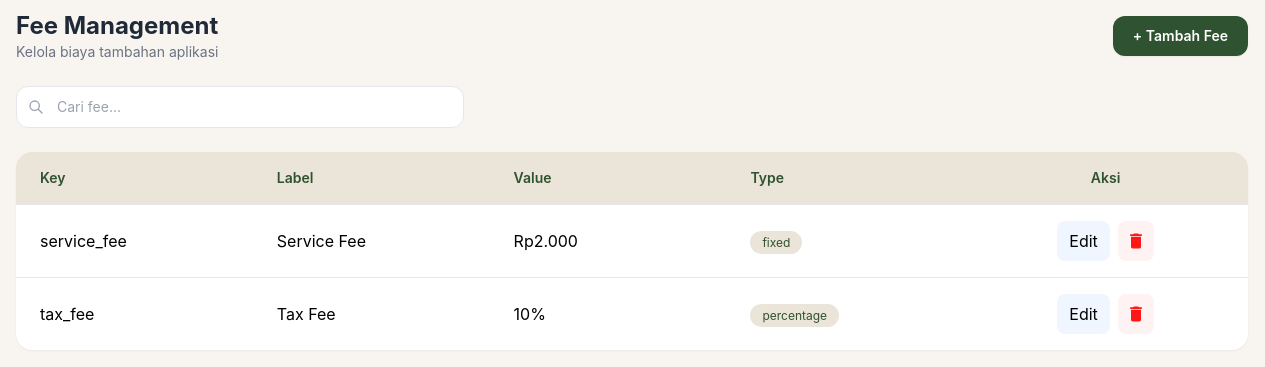
Scenario: FeeManagement Page › search filter bekerja
Check: the text "Service Fee" is shown, box [277,231,366,251]
Type "tax" into the field with placeholder "Cari fee...".
click(240, 107); type("tax")  # box [16,86,464,128]
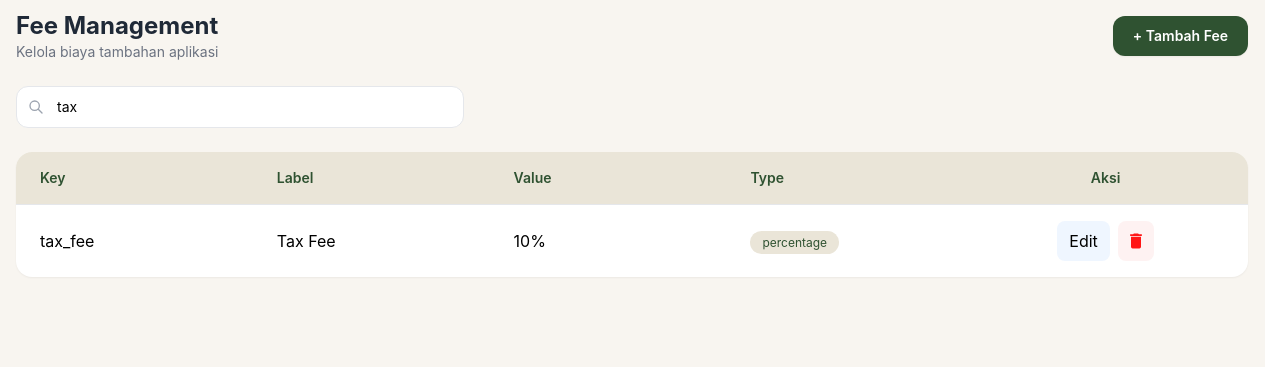
Check: the text "Tax Fee" is shown, box [277,231,336,251]
Check: the text "Service Fee" is gone
